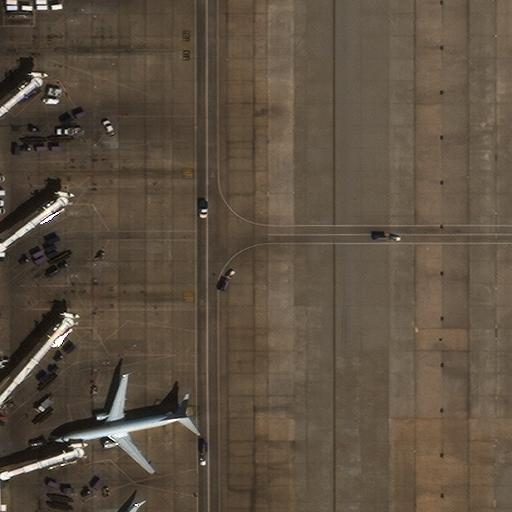Medium Civil Transport: (54, 373, 189, 475)
